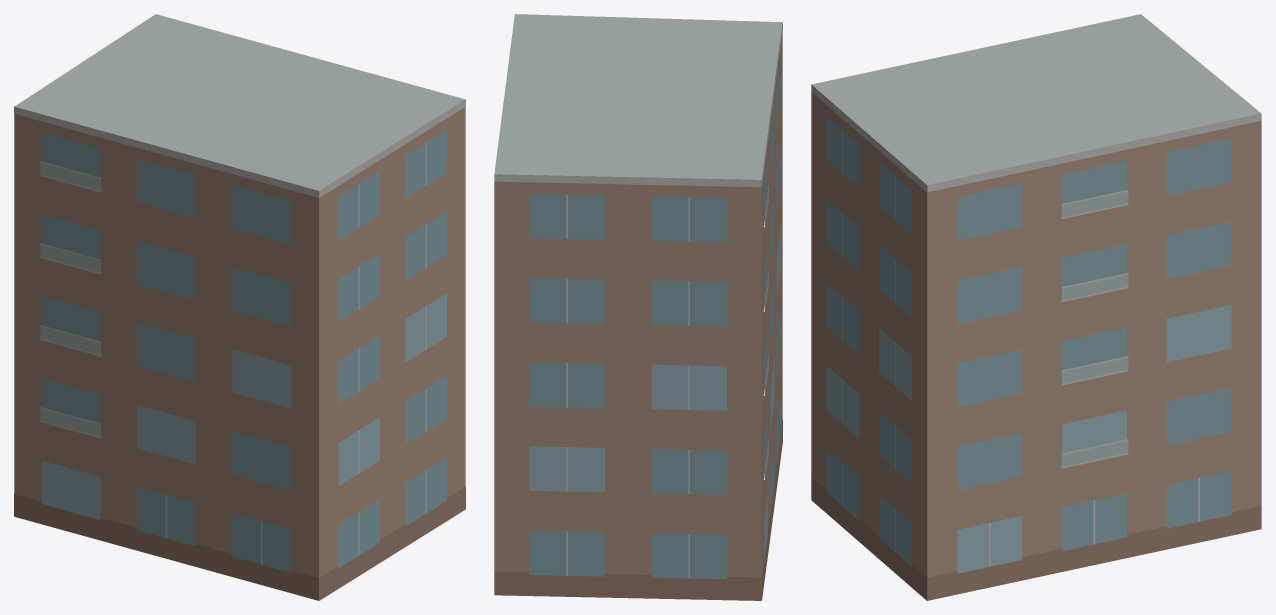
The model's file is survey-upis-32840740.glb.
3 views of the same model, side by side, from view 1: azimuth 30°, elevation 25°; view 2: azimuth 150°, elevation 25°; view 3: azimuth 270°, elevation 25° (orthographic). The views are drawn at different scales.
Parts seen in each view (by area): view 1: survey-upis-32840740.tmp; view 2: survey-upis-32840740.tmp; view 3: survey-upis-32840740.tmp.
Boxes of the visible parts, left/top/right/bottom form: survey-upis-32840740.tmp: left=14, top=14, right=465, bottom=600; survey-upis-32840740.tmp: left=494, top=14, right=782, bottom=600; survey-upis-32840740.tmp: left=811, top=14, right=1261, bottom=600.
Size of the model in its own units: 12.33 by 13.95 by 13.7.
